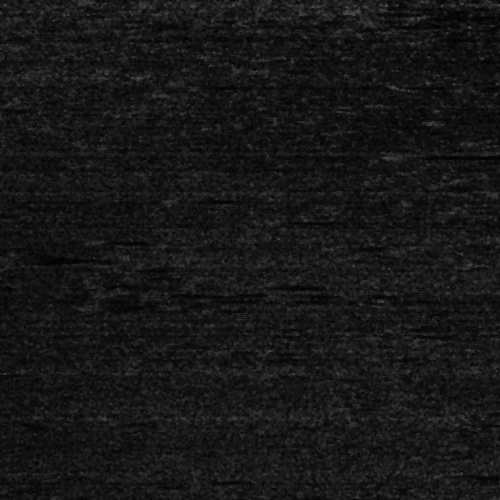object: (349, 152, 412, 157)
shadow: (381, 152, 471, 157)
